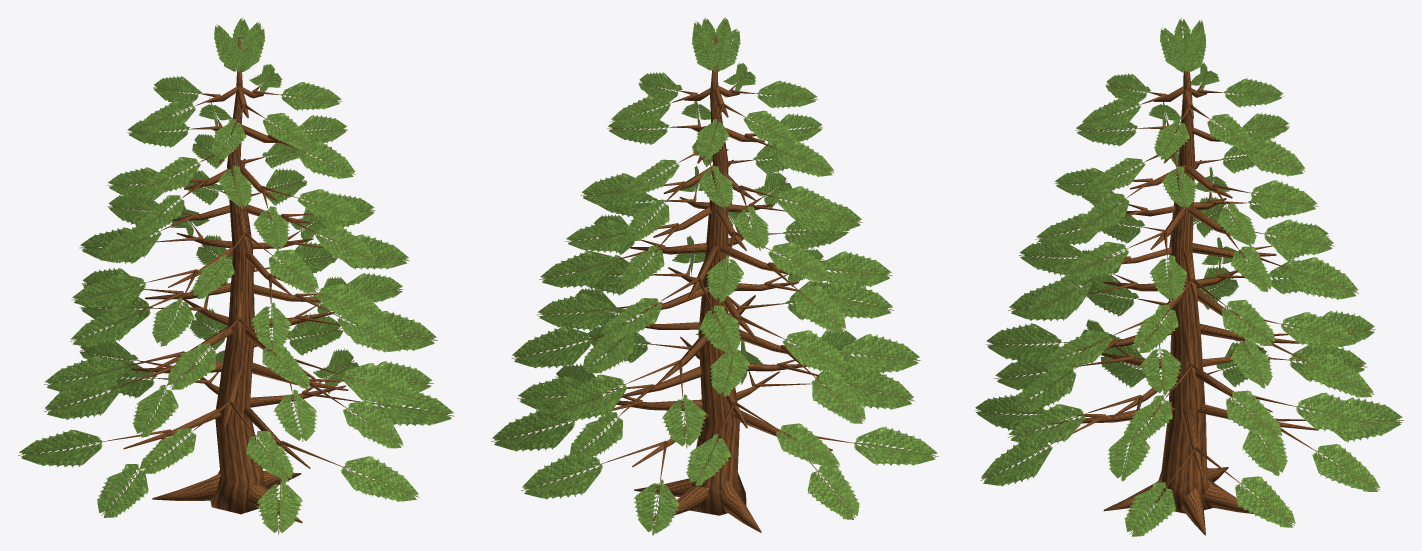
File: LayeredFir_LOD2.glb
The picture shows the model from 3 angles, left to right: view 1: azimuth 30°, elevation 25°; view 2: azimuth 150°, elevation 25°; view 3: azimuth 270°, elevation 25°; orthographic projection.
Parts seen in each view (by area): view 1: SM_LayeredFir_Foliage_LOD2, SM_LayeredFir_Bark_LOD2; view 2: SM_LayeredFir_Foliage_LOD2, SM_LayeredFir_Bark_LOD2; view 3: SM_LayeredFir_Foliage_LOD2, SM_LayeredFir_Bark_LOD2.
Part boxes in pixels (x1,y1,x2,y2): SM_LayeredFir_Foliage_LOD2: (18,17,454,535); SM_LayeredFir_Bark_LOD2: (107,37,359,523); SM_LayeredFir_Foliage_LOD2: (491,17,938,535); SM_LayeredFir_Bark_LOD2: (592,36,849,532); SM_LayeredFir_Foliage_LOD2: (975,17,1403,536); SM_LayeredFir_Bark_LOD2: (1053,37,1317,535).
Bounding box in the file's own units: 7.32 × 8.9 × 7.38.
Materials: 2 (2 with a texture image).
